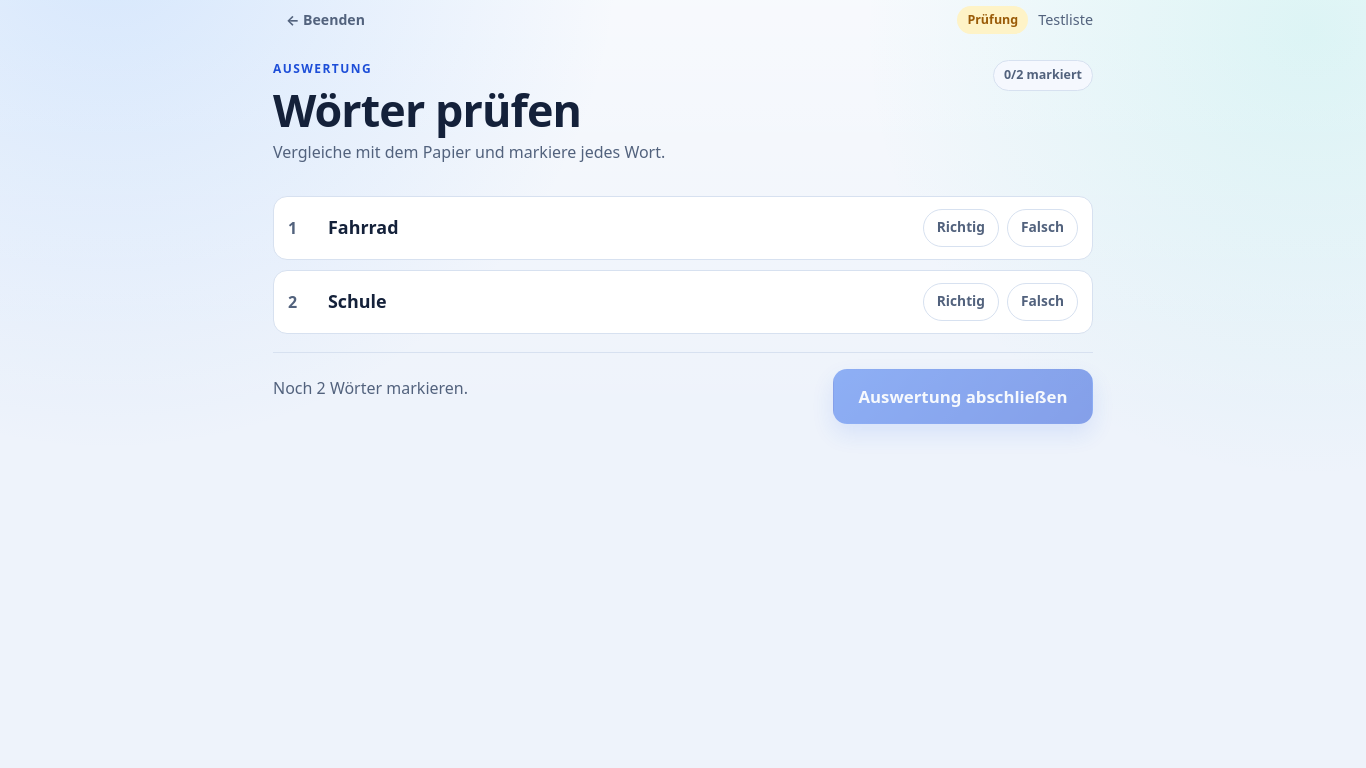
Test: SessionPage › restarts a retry round in practice mode after an exam
This screenshot has width=1366, height=768.
Earlier steps of the test are not shown.
Click the button "Richtig" in the row of "Fahrrad". click: (961, 228)
box: [923, 208, 999, 246]
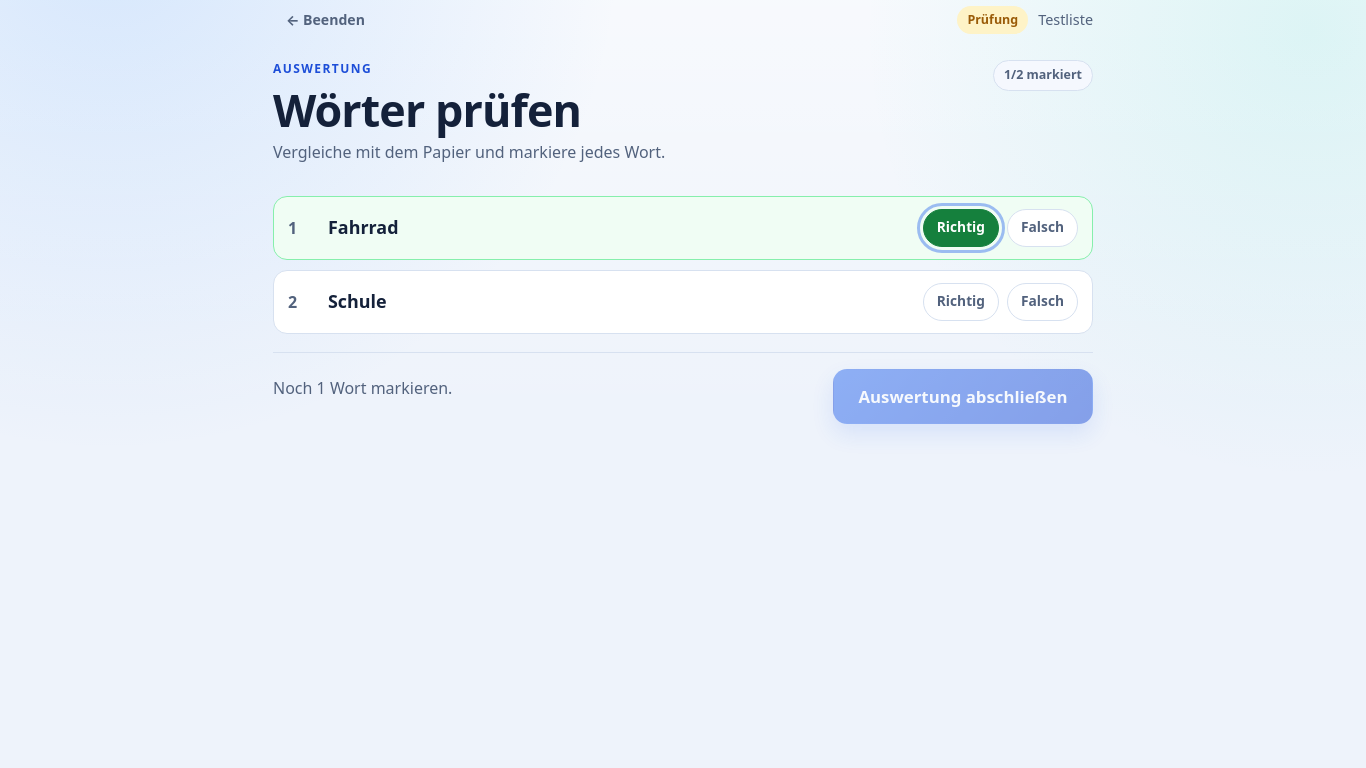
Click the button "Falsch" in the row of "Schule". click: (1042, 302)
box: [1007, 282, 1078, 320]
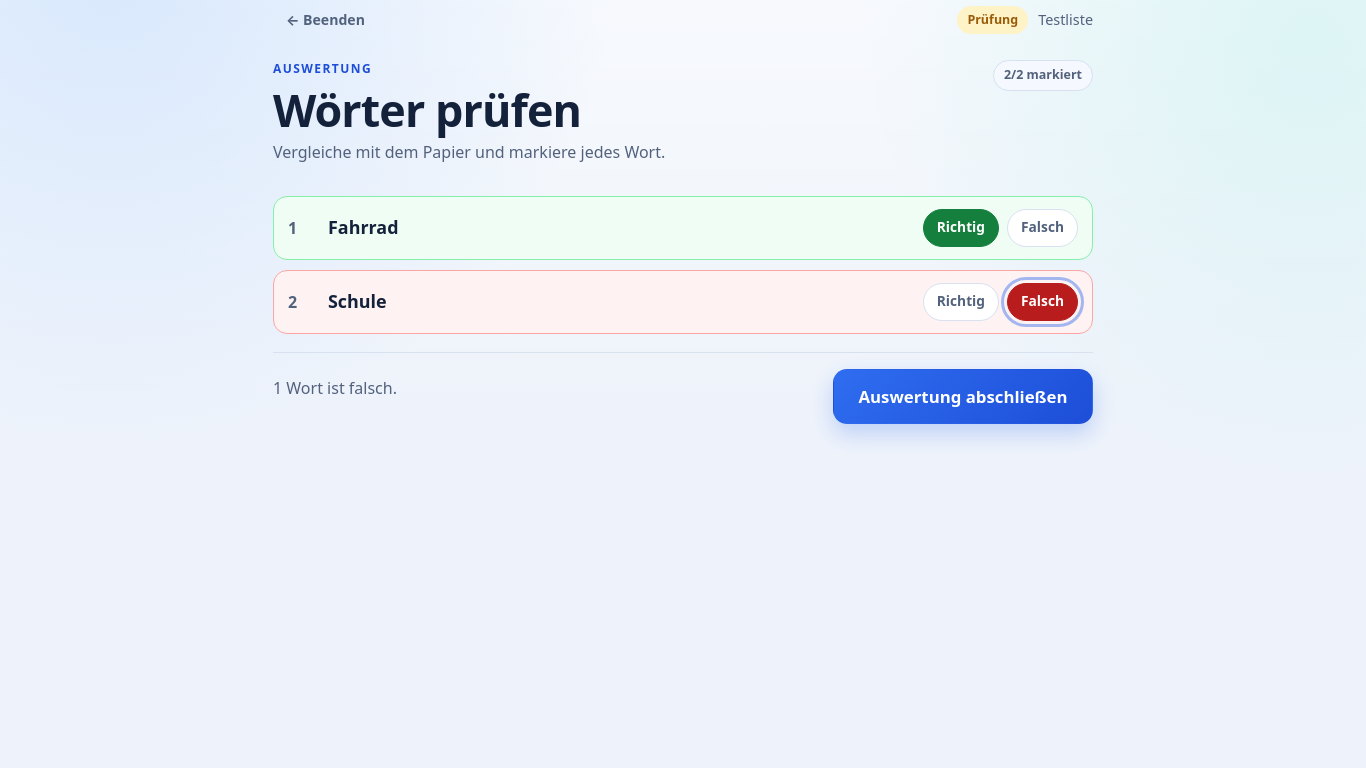
Click the button "Auswertung abschließen". click: (963, 396)
box: [833, 368, 1093, 424]
(page scrolled)
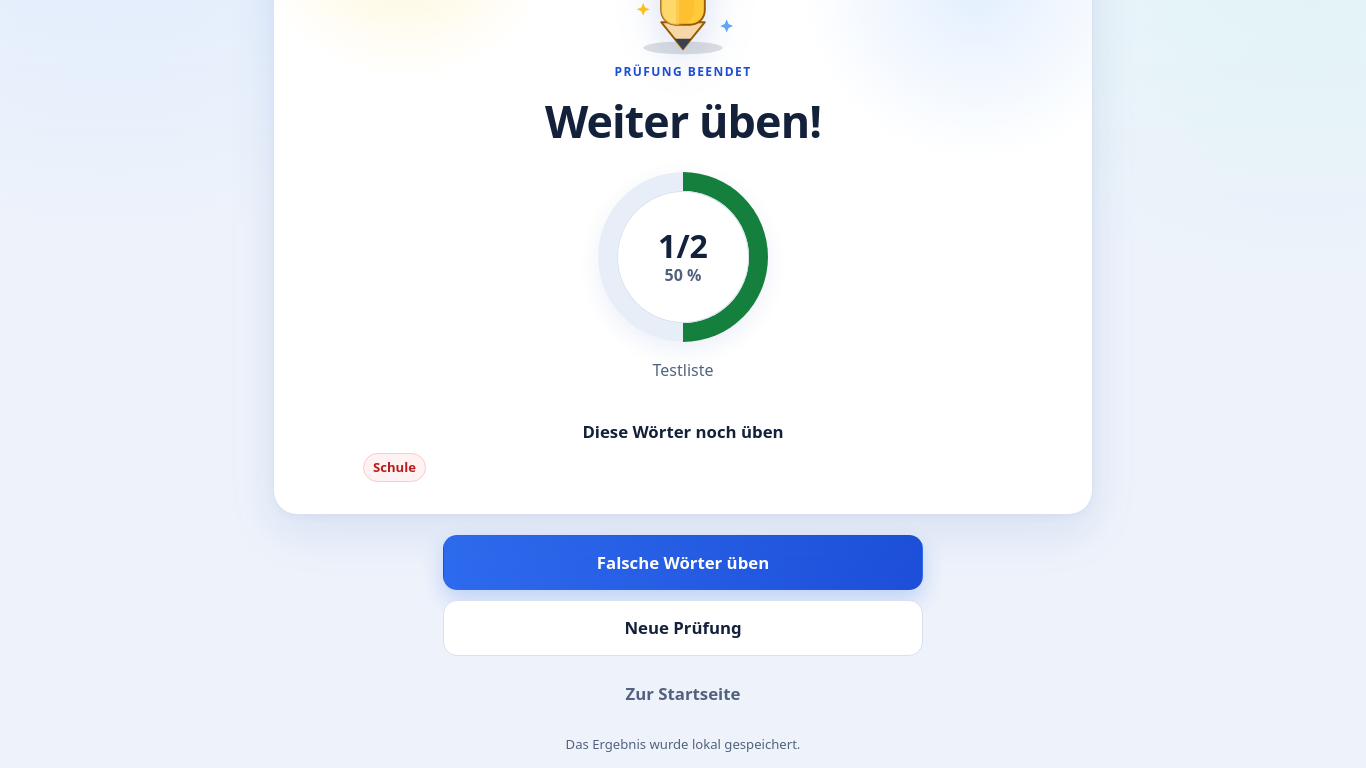
Now the text "Prüfung beendet" is shown, box [614, 63, 752, 81]
Click the button "Falsche Wörter üben". click: (683, 563)
box: [443, 535, 923, 590]
(page scrolled)
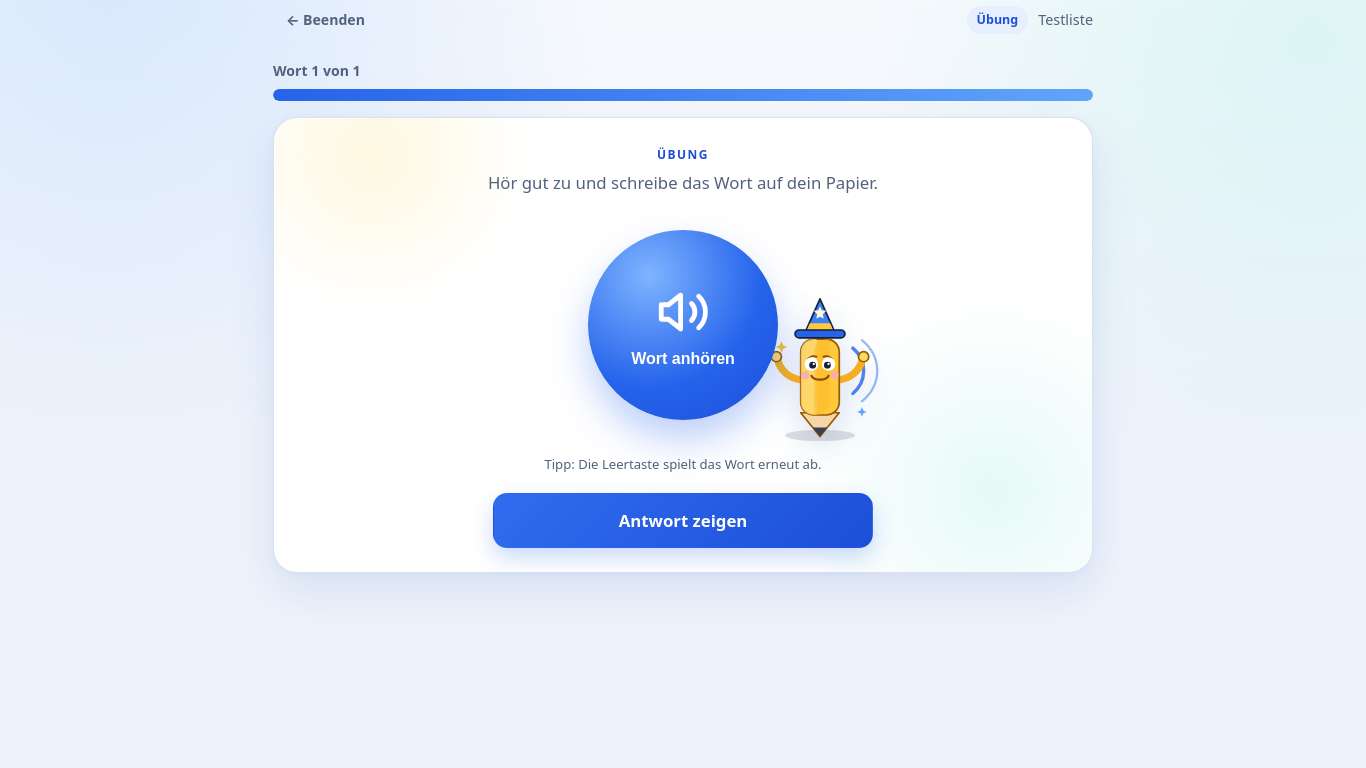
Now the text "Wort 1 von 1" is shown, box [273, 60, 361, 81]
Now the text "Übung" next to "Testliste" is shown, box [977, 11, 1018, 28]
Click the button "Antwort zeigen". click: (683, 521)
box: [493, 493, 873, 548]
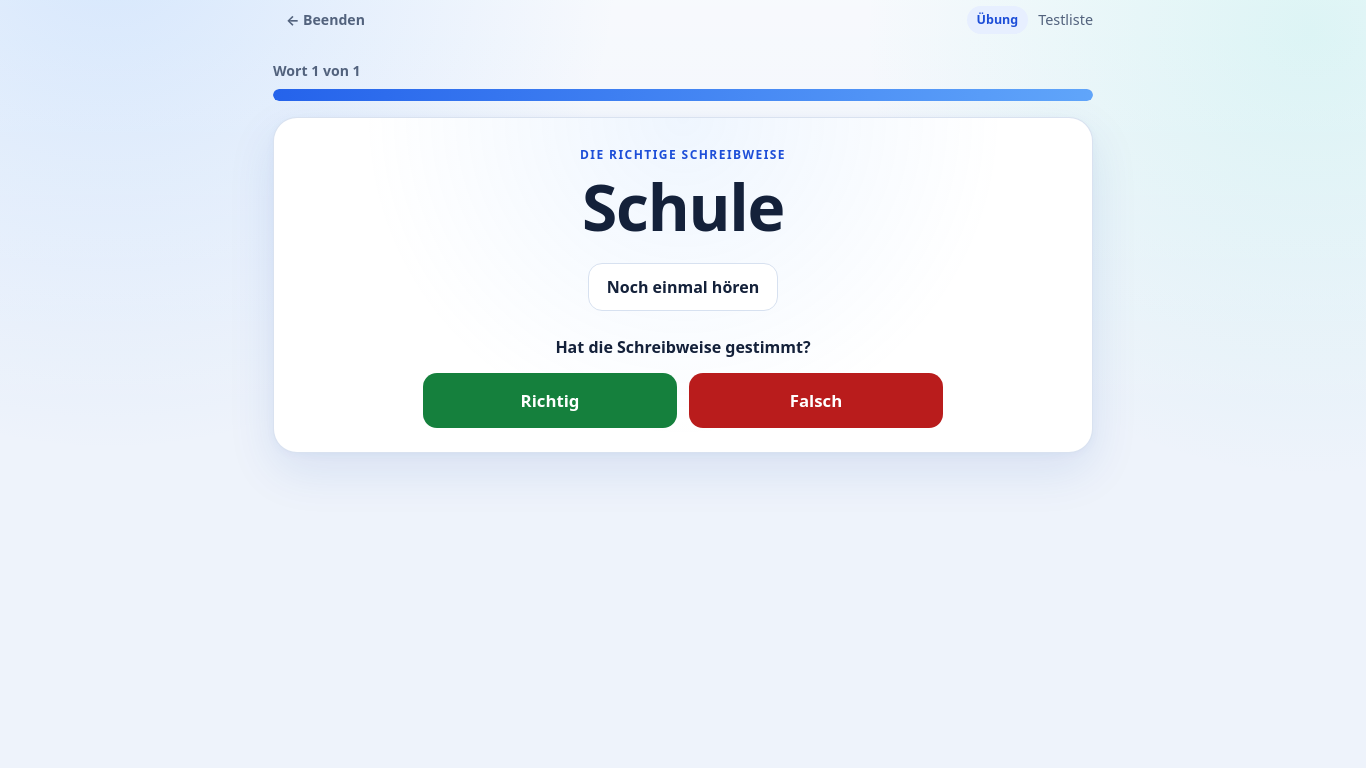
Click the button "Falsch". click: (816, 400)
box: [689, 372, 943, 428]
(page scrolled)
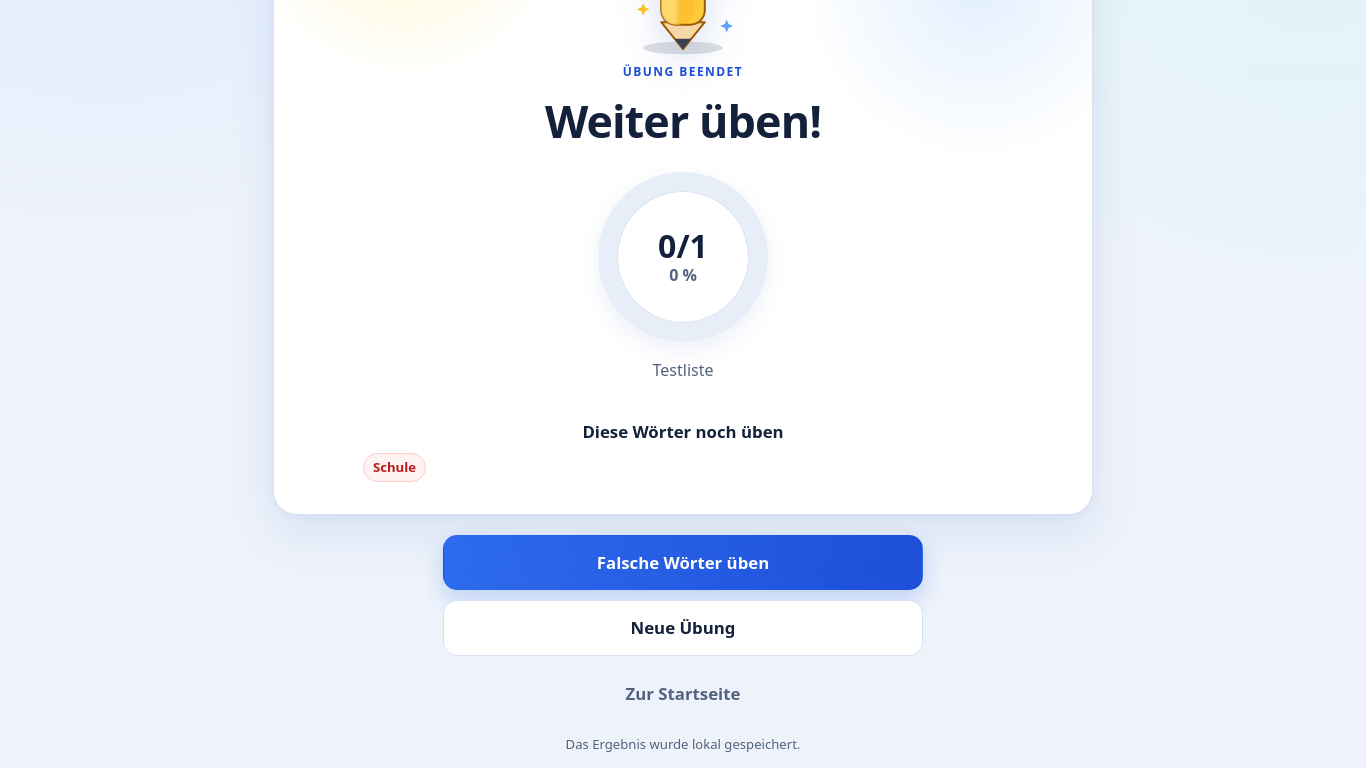
Expected: the button "Neue Prüfung" is not shown
Now the text "Übung beendet" is shown, box [623, 63, 743, 81]
Now the button "Neue Übung" is shown, box [443, 600, 923, 656]
